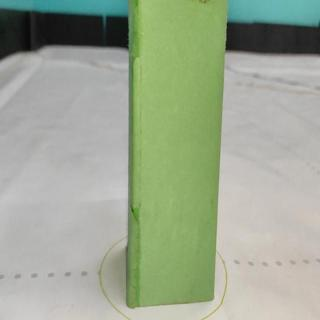greenbox: (128, 1, 227, 310)
